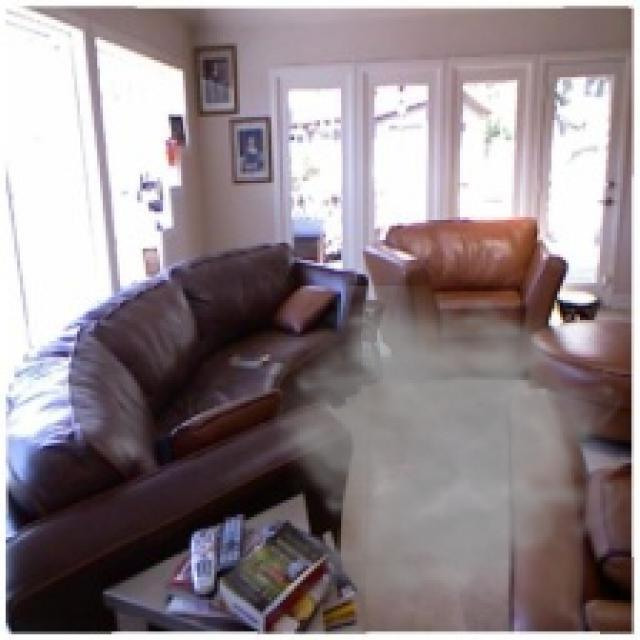Smoke: (266, 286, 628, 632)
